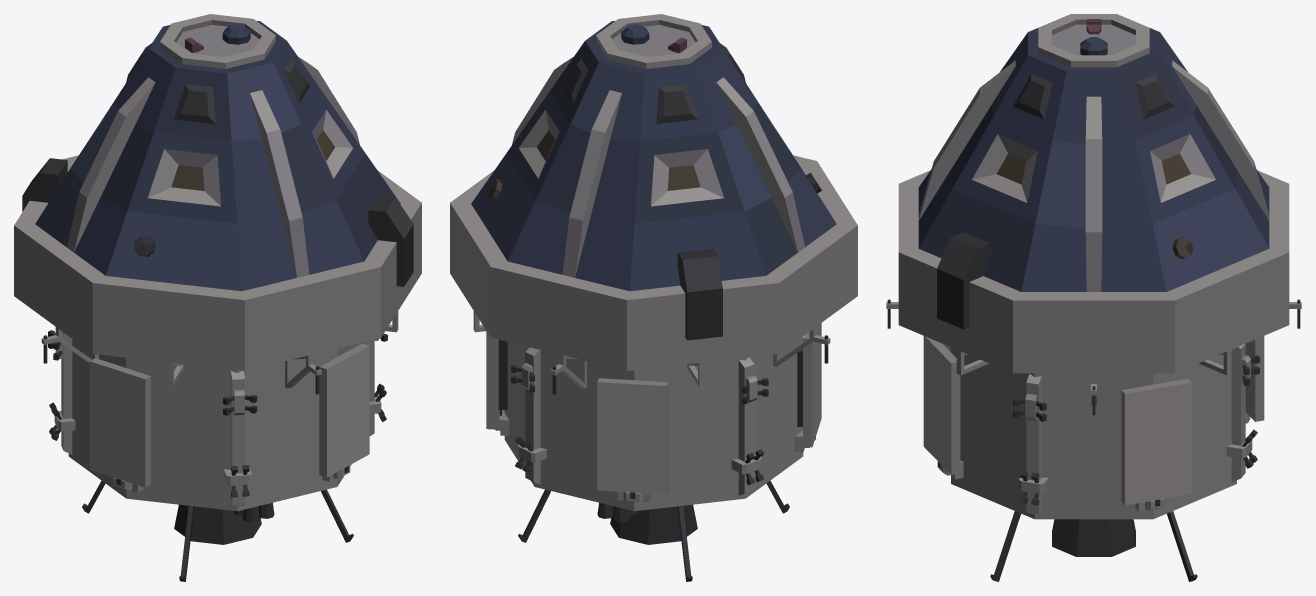
The model's file is capsula-llegada.glb.
3 renders of one model, left to right at view 1: azimuth 30°, elevation 25°; view 2: azimuth 150°, elevation 25°; view 3: azimuth 270°, elevation 25°, orthographic. The views are drawn at different scales.
Parts seen in each view (by area): view 1: CCBY_Capsule; view 2: CCBY_Capsule; view 3: CCBY_Capsule.
Part boxes in pixels (x1,y1,x2,y2): CCBY_Capsule: (14,14,421,581); CCBY_Capsule: (450,14,857,581); CCBY_Capsule: (886,14,1301,581).
Bounding box in the file's own units: 3.58 × 4.84 × 3.58.
